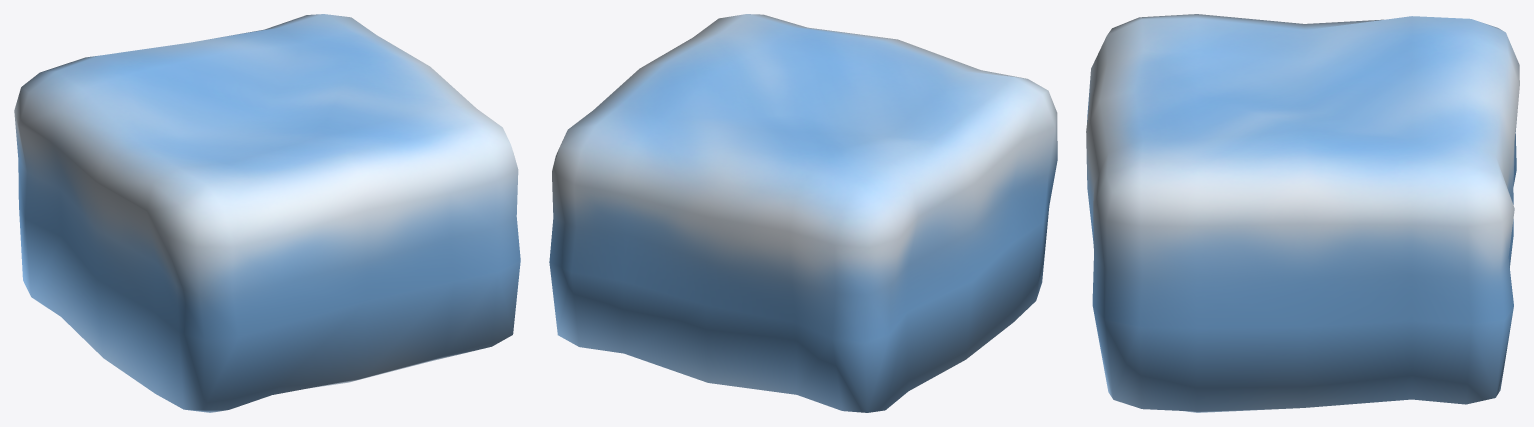
Rendered from iceblock_sliced3.fbx.
3 renders of one model, left to right at view 1: azimuth 30°, elevation 25°; view 2: azimuth 150°, elevation 25°; view 3: azimuth 270°, elevation 25°, orthographic. The views are drawn at different scales.
Visible parts, largest first — view 1: 얼음1; view 2: 얼음1; view 3: 얼음1.
Boxes of the visible parts, x1,y1,x2,y2 form: 얼음1: (14,14,520,412); 얼음1: (549,14,1057,412); 얼음1: (1086,14,1519,412).
Bounding box in the file's own units: 204 × 136 × 202.
